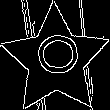O_W: (30, 38, 81, 82)
